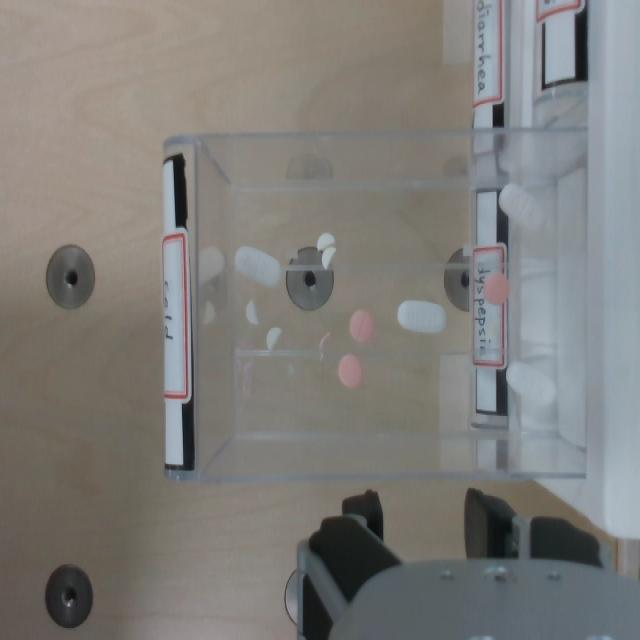amoxicle_tab: (506, 361, 555, 407), (499, 183, 544, 229), (234, 245, 280, 287), (397, 300, 446, 333)
panstar_tab: (337, 353, 362, 388), (484, 272, 508, 304), (349, 309, 373, 341)
sudafed_tab: (266, 327, 281, 349), (245, 300, 258, 324), (316, 233, 335, 249), (322, 247, 335, 268)
